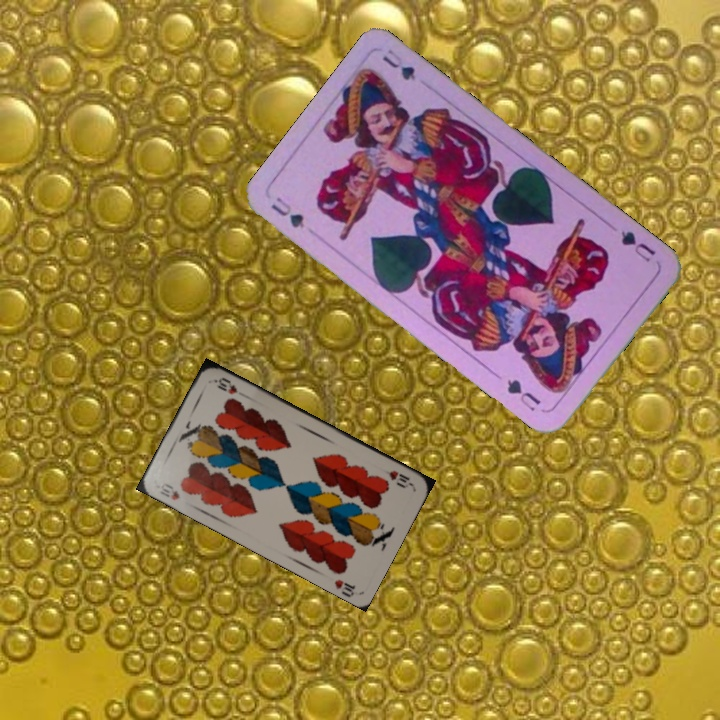GU: (616, 226, 658, 265), (267, 192, 307, 231)
H10: (378, 465, 415, 490), (156, 479, 183, 503)
